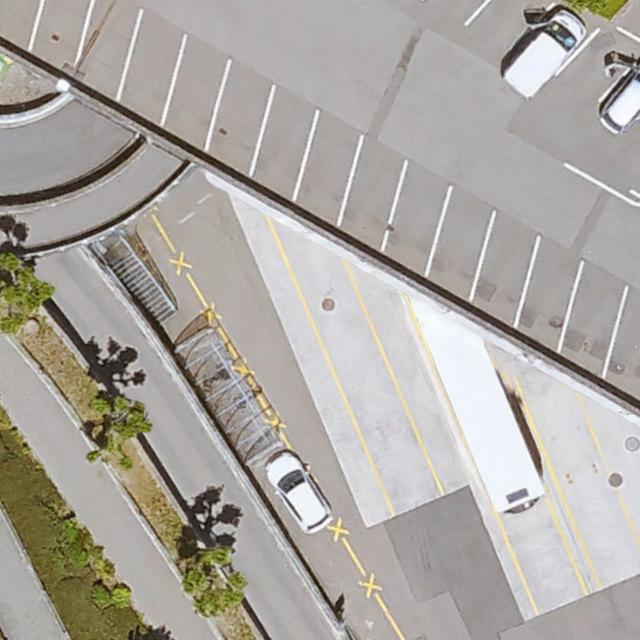tree: (184, 545, 246, 615), (0, 254, 47, 330), (98, 406, 146, 459)
